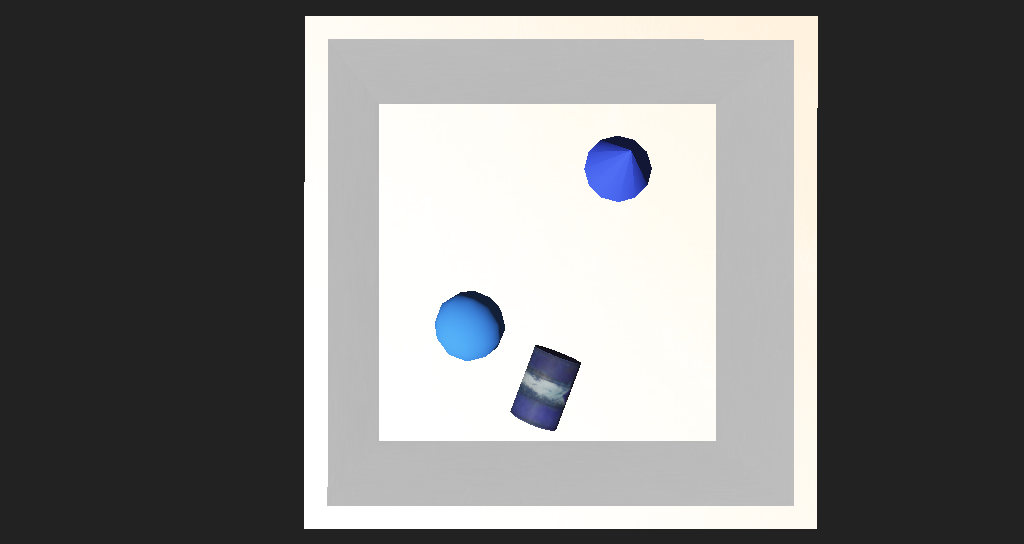cone: (475, 310, 536, 367)
cylinder: (539, 172, 606, 220)
sphere: (408, 277, 468, 324)
